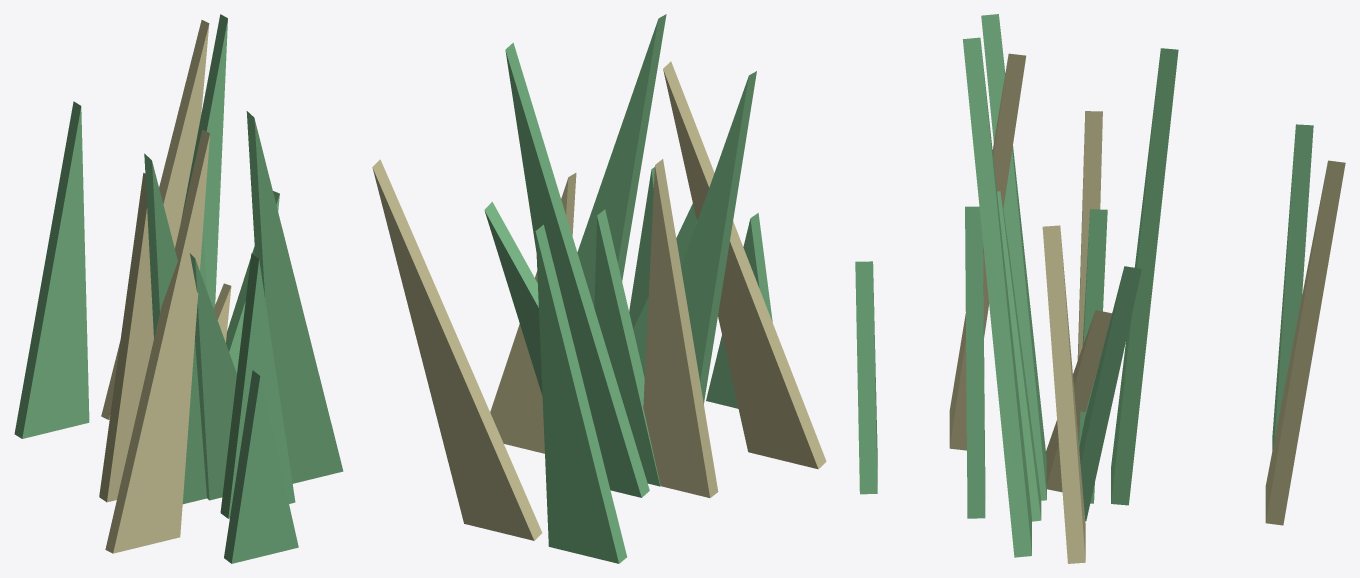
File: Weeds.fbx
3 views of the same model, side by side, from view 1: azimuth 30°, elevation 25°; view 2: azimuth 150°, elevation 25°; view 3: azimuth 270°, elevation 25° (orthographic). The views are drawn at different scales.
Visible parts, largest first — view 1: Weeds; view 2: Weeds; view 3: Weeds.
Part boxes in pixels (x1=…): Weeds: x1=14, y1=14, x2=343, y2=563; Weeds: x1=372, y1=14, x2=826, y2=563; Weeds: x1=855, y1=14, x2=1345, y2=563.
Bounding box in the file's own units: 0.4023 × 0.597 × 0.551.
